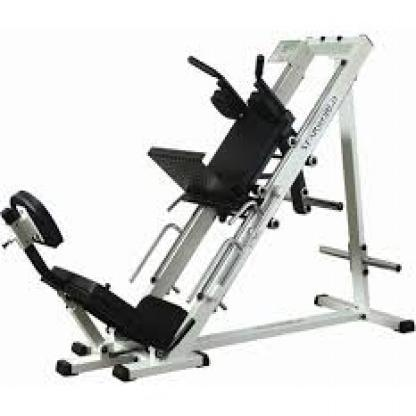leg press: (1, 24, 416, 395)
